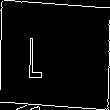L_N: (47, 29, 63, 81)
